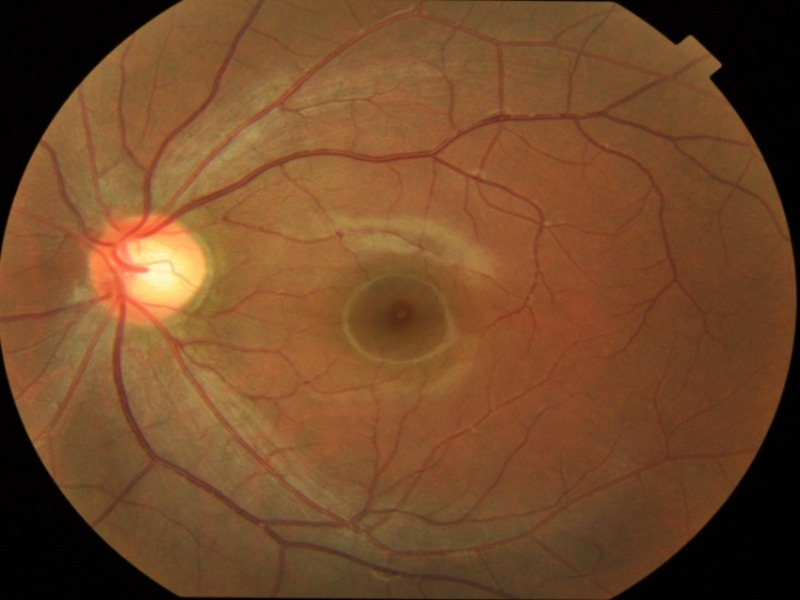Optic Cup: (132, 241, 175, 290)
Optic Disc: (89, 212, 208, 324)
